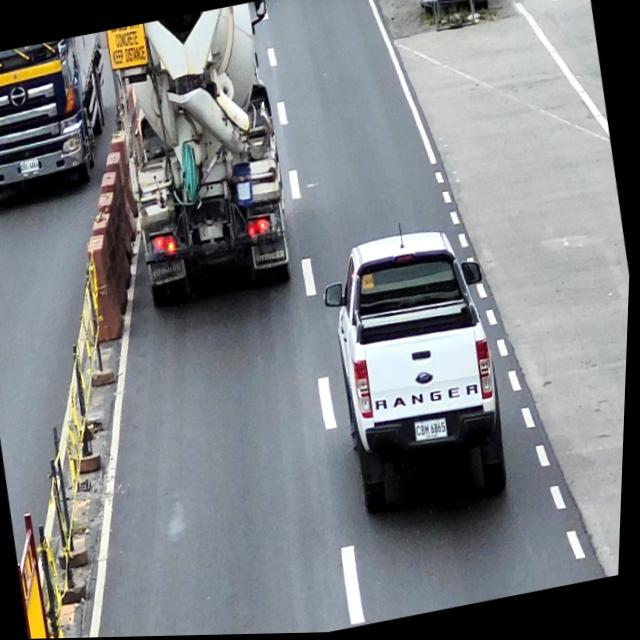Car: (314, 221, 524, 524)
License-Plate: (417, 419, 452, 443), (199, 222, 226, 242), (19, 158, 41, 173)
Truck: (98, 0, 316, 311), (0, 32, 125, 211)
